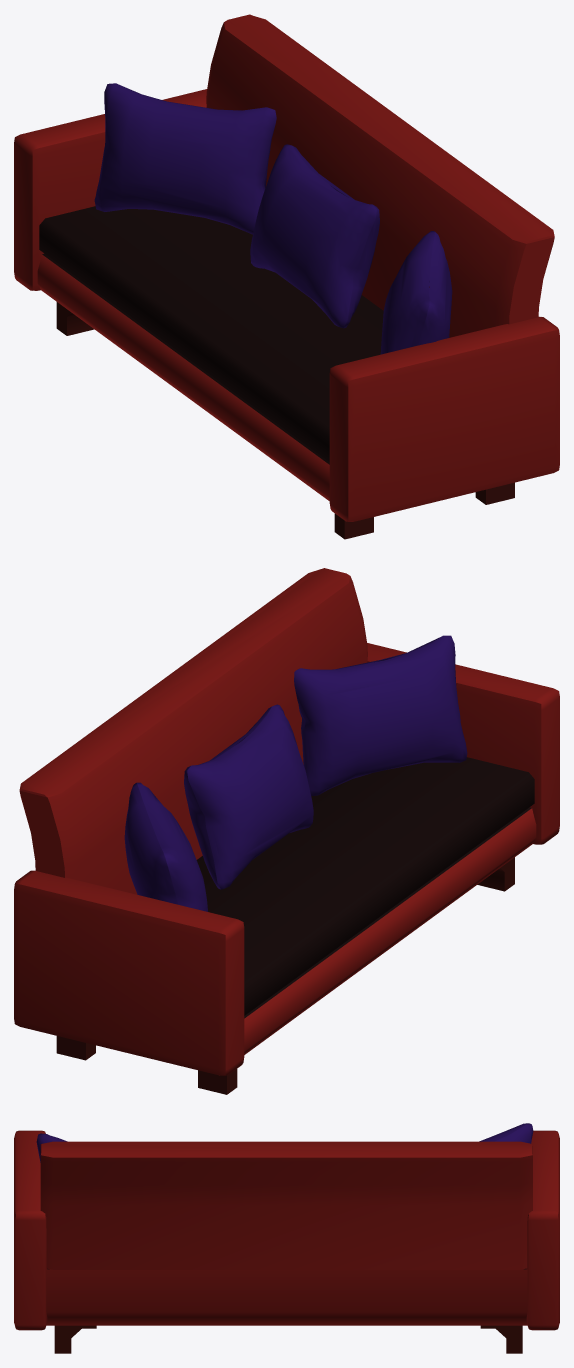
File: Sofa.fbx
The picture shows the model from 3 angles, top to bottom: view 1: azimuth 30°, elevation 25°; view 2: azimuth 150°, elevation 25°; view 3: azimuth 270°, elevation 25°; orthographic projection. The views are drawn at different scales.
Parts seen in each view (by area): view 1: Cube.029; view 2: Cube.029; view 3: Cube.029.
Boxes of the visible parts, x1,y1,x2,y2 form: Cube.029: (14,14,559,539); Cube.029: (14,568,559,1094); Cube.029: (14,1123,559,1353).
Size of the model in its own units: 15.42 by 16.83 by 39.15.
